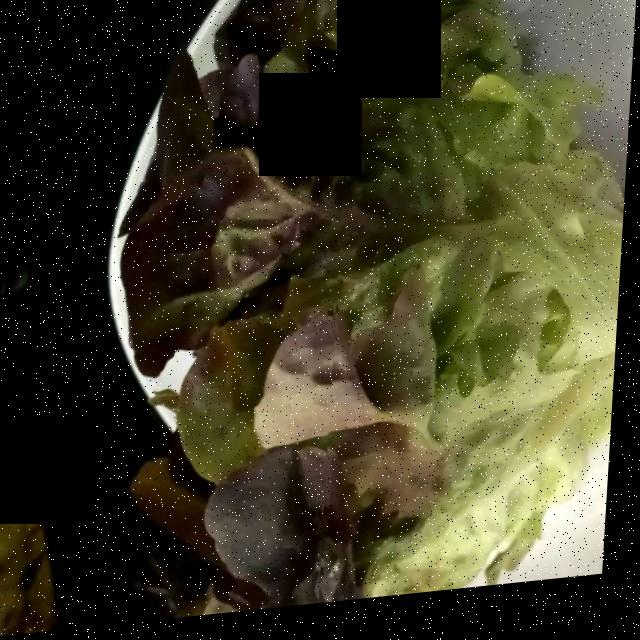salad-leaf-salad-green: (129, 0, 583, 601)
